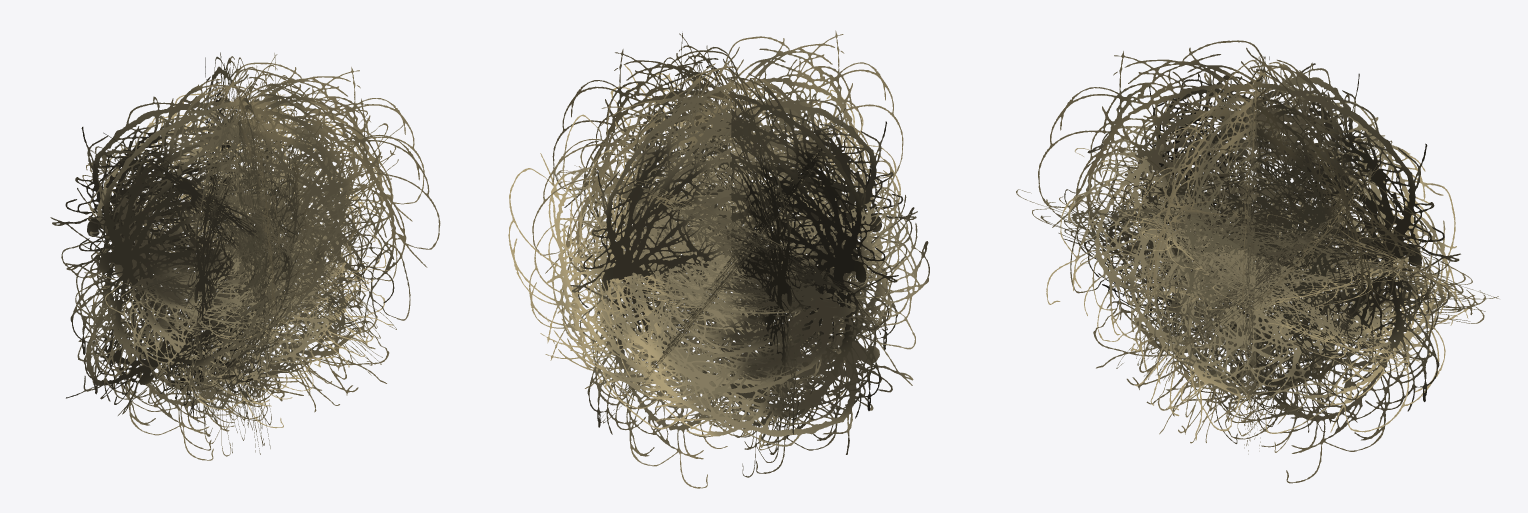
The model's file is Tumbleweed.fbx.
3 views of the same model, side by side, from view 1: azimuth 30°, elevation 25°; view 2: azimuth 150°, elevation 25°; view 3: azimuth 270°, elevation 25° (orthographic). The views are drawn at different scales.
Visible parts, largest first — view 1: Circle.001; view 2: Circle.001; view 3: Circle.001.
Boxes of the visible parts, box(x1,y1,x2,y2) form: Circle.001: box(50, 52, 440, 460); Circle.001: box(508, 30, 929, 488); Circle.001: box(1016, 40, 1498, 483).
Bounding box in the file's own units: 230 × 244 × 244.
Materials: 1 (1 with a texture image).
